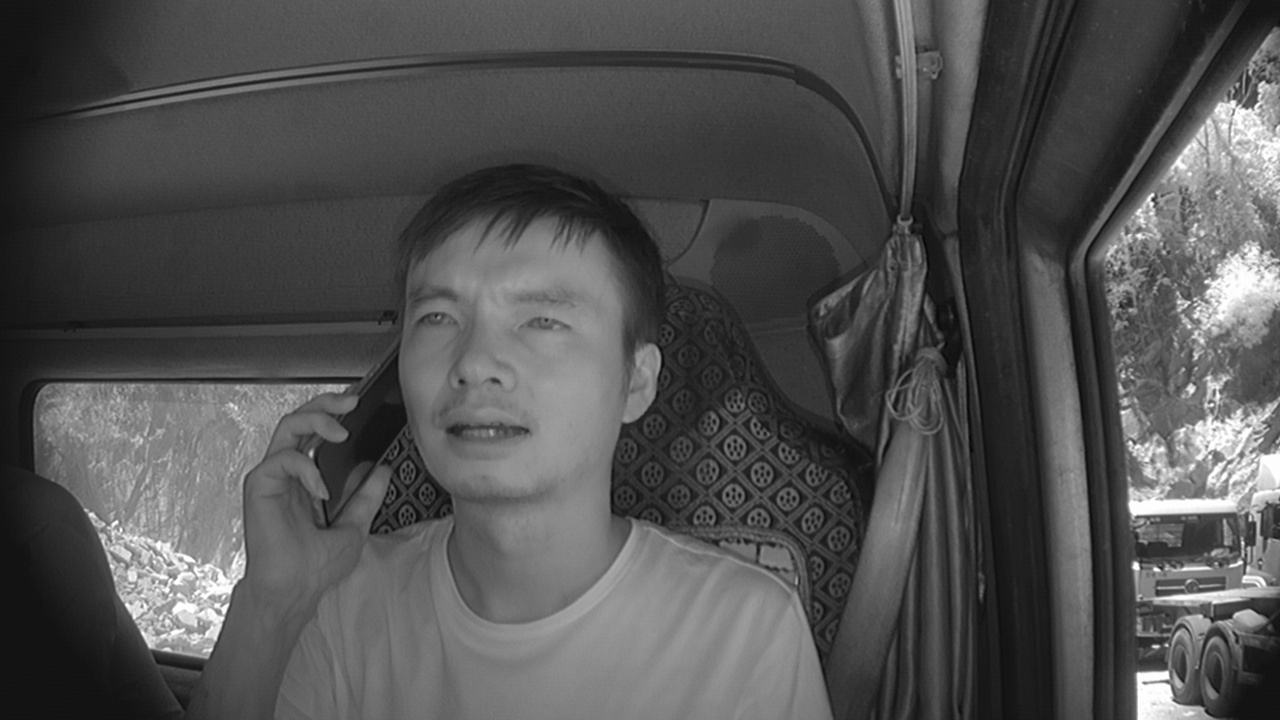hand: (233, 388, 390, 594)
